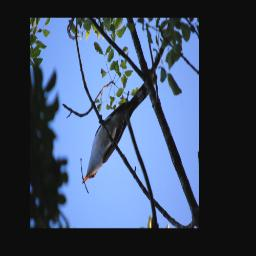Cuckoo: (80, 86, 149, 186)
